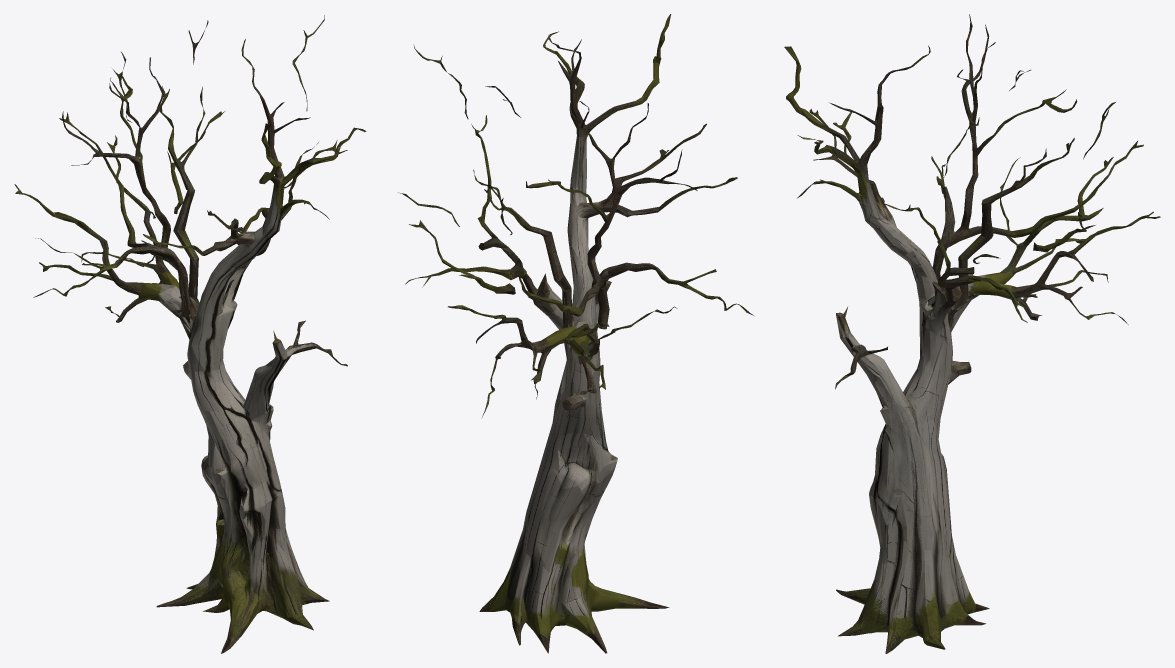
File: DeadTree.glb
3 views of the same model, side by side, from view 1: azimuth 30°, elevation 25°; view 2: azimuth 150°, elevation 25°; view 3: azimuth 270°, elevation 25° (orthographic). The views are drawn at different scales.
Bounding box in the file's own units: 2.92 × 5 × 2.94.
1 material, 1 textured.
